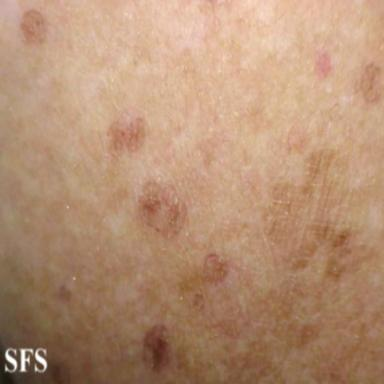Porokeratosis: (138, 180, 187, 238), (107, 117, 145, 156), (143, 324, 171, 371), (20, 9, 47, 44), (359, 63, 382, 102), (203, 253, 228, 285), (287, 121, 309, 154), (314, 50, 332, 79), (193, 293, 205, 310)
